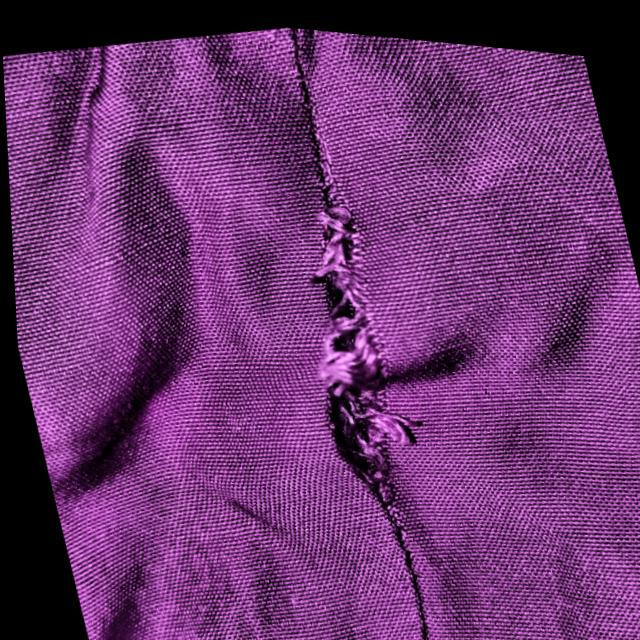seam: (191, 140, 480, 590)
